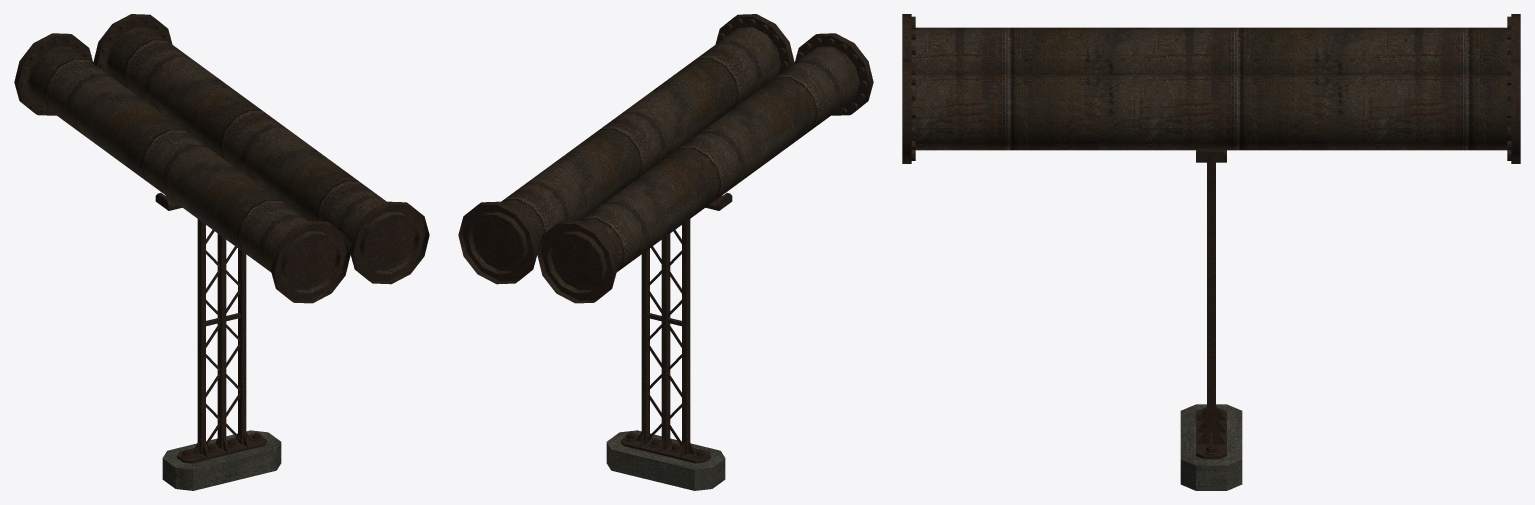
The model's file is pipe_cx_5.glb.
3 views of the same model, side by side, from view 1: azimuth 30°, elevation 25°; view 2: azimuth 150°, elevation 25°; view 3: azimuth 270°, elevation 25° (orthographic). The views are drawn at different scales.
Visible parts, largest first — view 1: pipe_cx_5; view 2: pipe_cx_5; view 3: pipe_cx_5.
Part boxes in pixels (x1,y1,x2,y2): pipe_cx_5: (14, 14, 429, 490); pipe_cx_5: (458, 14, 873, 490); pipe_cx_5: (902, 14, 1520, 490).
Size of the model in its own units: 1.38 by 2.99 by 4.
Materials: 3 (3 with a texture image).
